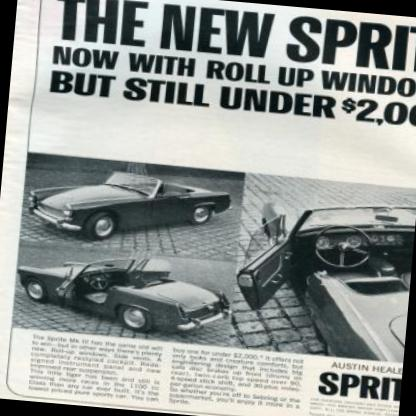car: (231, 189, 415, 365), (13, 246, 236, 342), (24, 158, 235, 252)
